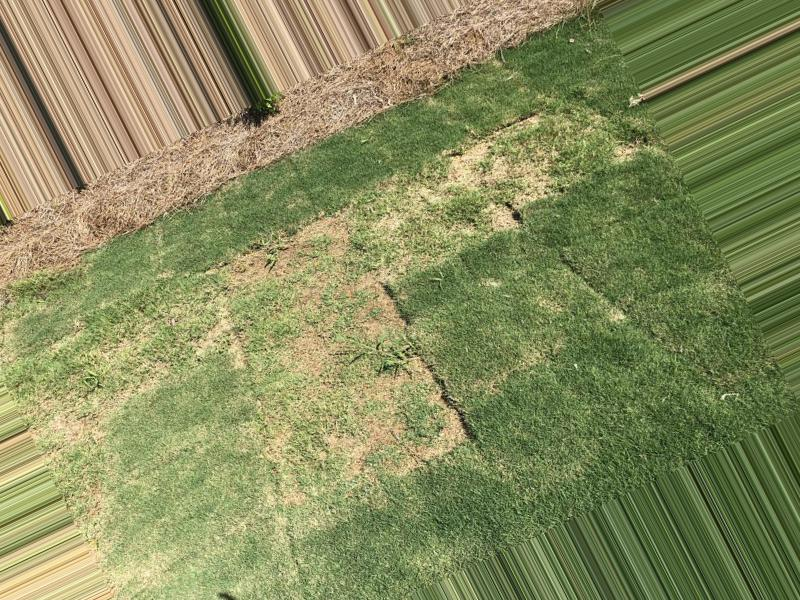patch: (330, 213, 391, 340), (193, 298, 256, 350), (349, 379, 400, 440), (270, 246, 323, 292), (6, 228, 51, 272), (62, 200, 112, 239), (114, 175, 169, 208), (180, 145, 235, 176), (281, 337, 319, 380), (246, 116, 284, 151), (447, 155, 484, 180), (442, 420, 463, 447)
